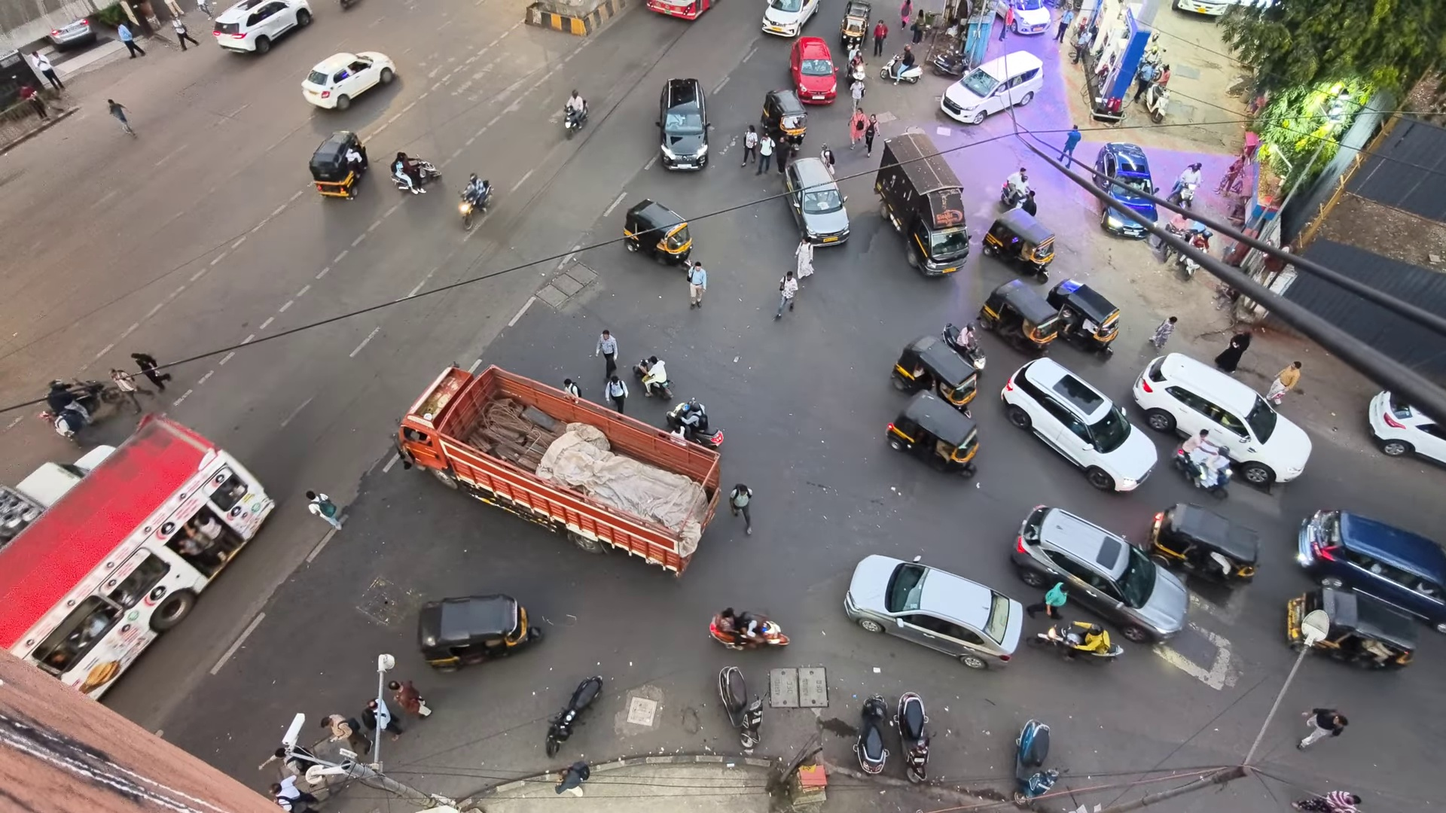driving: (0, 416, 273, 697), (398, 367, 719, 573), (1133, 353, 1312, 487), (1011, 507, 1188, 642), (1001, 358, 1157, 490), (845, 556, 1023, 668), (1297, 510, 1445, 632), (874, 132, 969, 276), (0, 446, 114, 547), (1286, 586, 1417, 668), (417, 595, 542, 671), (1149, 503, 1258, 586), (886, 391, 978, 478), (941, 52, 1042, 124), (0, 446, 114, 508), (891, 335, 977, 416), (1045, 279, 1120, 358), (978, 279, 1058, 353), (784, 157, 850, 245), (1367, 391, 1445, 463), (301, 51, 396, 109), (981, 209, 1054, 282), (213, 0, 312, 53), (1095, 142, 1158, 221), (545, 675, 604, 757), (657, 78, 708, 169), (623, 199, 691, 267), (1012, 720, 1059, 807), (309, 130, 368, 199), (718, 665, 762, 754), (1027, 622, 1122, 662), (790, 37, 837, 103), (895, 692, 929, 782), (665, 398, 724, 449), (709, 613, 789, 650), (853, 695, 889, 774), (760, 90, 807, 146), (941, 322, 986, 371), (761, 0, 819, 37), (996, 0, 1051, 33), (390, 158, 441, 193), (840, 0, 872, 53), (459, 179, 492, 230), (47, 17, 96, 49), (645, 0, 715, 20), (879, 53, 923, 84)
walking: (320, 714, 371, 755), (1298, 708, 1347, 749), (270, 775, 319, 812), (111, 368, 151, 413), (1213, 330, 1251, 373), (130, 352, 171, 391), (388, 681, 431, 717), (1292, 790, 1361, 812), (1025, 583, 1066, 619), (1267, 361, 1301, 403), (306, 492, 341, 529), (555, 760, 590, 796), (32, 50, 63, 89), (729, 483, 752, 534), (595, 330, 618, 376), (776, 271, 798, 319), (107, 99, 135, 135), (20, 84, 48, 119), (117, 23, 145, 58), (1132, 62, 1156, 102), (1059, 124, 1081, 166), (688, 260, 707, 308), (172, 17, 198, 51), (1151, 316, 1177, 349), (850, 104, 868, 149), (606, 375, 627, 413), (755, 132, 774, 174), (740, 125, 759, 166), (795, 239, 813, 279), (360, 699, 382, 731), (775, 140, 795, 175), (1055, 8, 1075, 43), (998, 3, 1014, 41), (1075, 25, 1092, 59), (873, 19, 888, 57), (864, 114, 877, 156), (910, 10, 926, 44), (819, 144, 835, 175), (850, 78, 865, 111), (1019, 190, 1036, 216), (563, 377, 580, 400), (900, 0, 912, 29)
